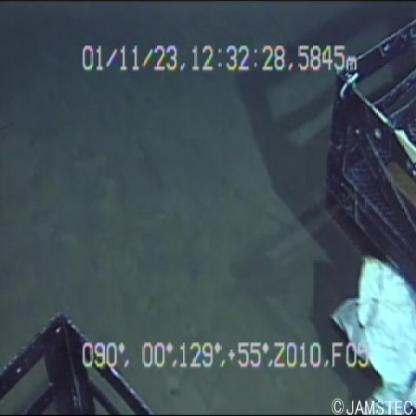Rov: (321, 3, 416, 291), (1, 306, 158, 415)
Rác: (310, 237, 415, 416)
